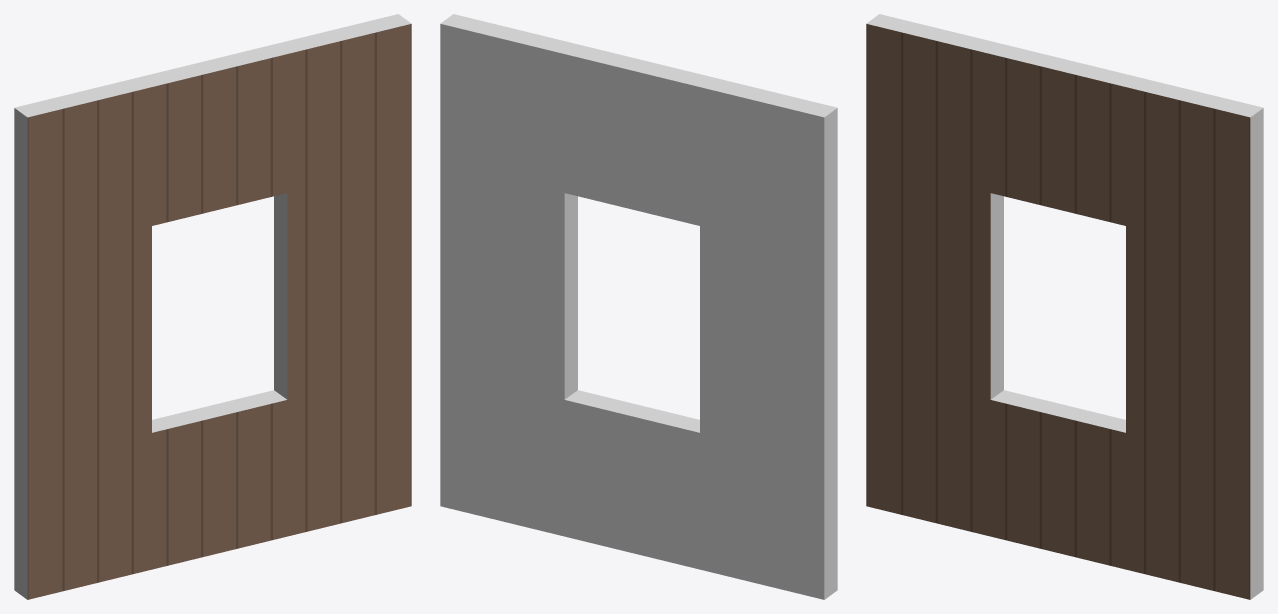
File: Wall1_C9_03.fbx
3 views of the same model, side by side, from view 1: azimuth 30°, elevation 25°; view 2: azimuth 150°, elevation 25°; view 3: azimuth 330°, elevation 25° (orthographic).
Visible parts, largest first — view 1: Wall1_C9_03; view 2: Wall1_C9_03; view 3: Wall1_C9_03.
Boxes of the visible parts, x1,y1,x2,y2 form: Wall1_C9_03: (14,14,411,599); Wall1_C9_03: (440,14,837,599); Wall1_C9_03: (866,14,1263,599).
Bounding box in the file's own units: 250 × 300 × 15.
